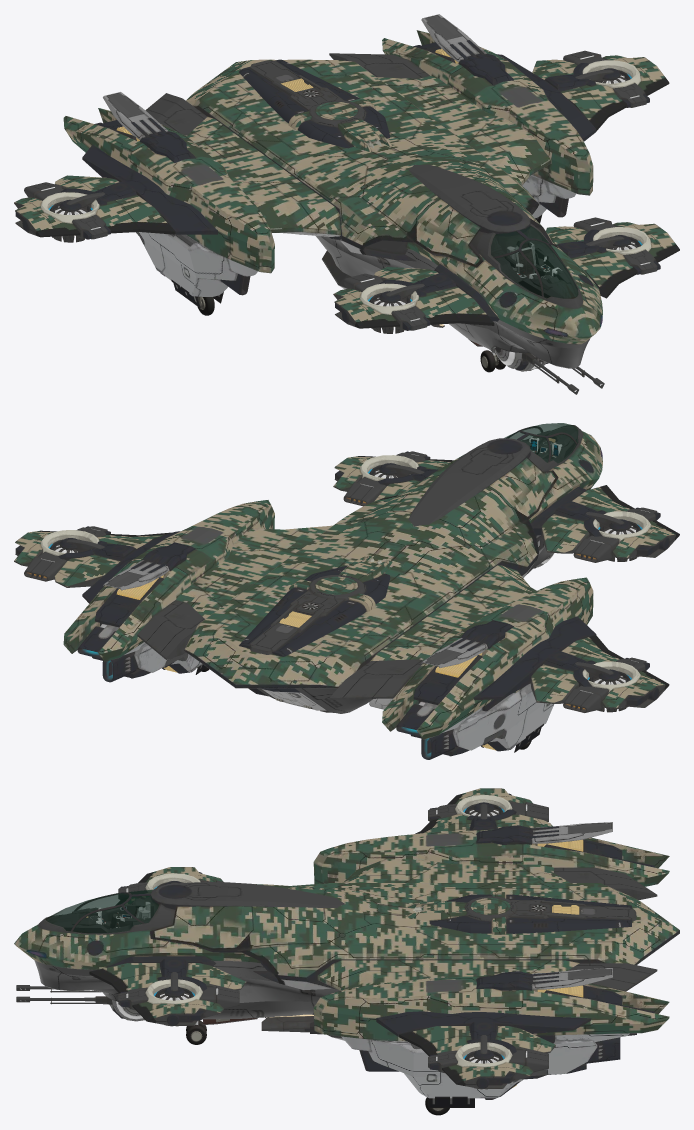
Rendered from vtol.glb.
3 views of the same model, one above another, from view 1: azimuth 30°, elevation 25°; view 2: azimuth 150°, elevation 25°; view 3: azimuth 270°, elevation 25° (orthographic). The views are drawn at different scales.
Parts seen in each view (by area): view 1: hull_top_Mat_hulltop_0, main_engine_Mat_engine_0, vertical_thrust_Mat_Vertical_thruster_0, tailgate_Mat_tailgate_0, hull_bottom_Mat_hullbottom_0, cockpit_canopy_Mat_canopy_0, cockpit_fixtures_Mat_cockpit_0, railgun_mat_weapons_0; view 2: hull_top_Mat_hulltop_0, main_engine_Mat_engine_0, vertical_thrust_Mat_Vertical_thruster_0, tailgate_Mat_tailgate_0, cockpit_canopy_Mat_canopy_0, hull_bottom_Mat_hullbottom_0, cockpit_fixtures_Mat_cockpit_0; view 3: hull_top_Mat_hulltop_0, main_engine_Mat_engine_0, vertical_thrust_Mat_Vertical_thruster_0, tailgate_Mat_tailgate_0, hull_bottom_Mat_hullbottom_0, cockpit_canopy_Mat_canopy_0, railgun_mat_weapons_0, cockpit_fixtures_Mat_cockpit_0.
Part boxes in pixels (bbox=[...]): hull_top_Mat_hulltop_0: bbox=[82, 53, 602, 344]; main_engine_Mat_engine_0: bbox=[63, 14, 593, 296]; vertical_thrust_Mat_Vertical_thruster_0: bbox=[14, 50, 679, 333]; tailgate_Mat_tailgate_0: bbox=[239, 59, 392, 151]; hull_bottom_Mat_hullbottom_0: bbox=[171, 214, 590, 372]; cockpit_canopy_Mat_canopy_0: bbox=[491, 225, 578, 298]; cockpit_fixtures_Mat_cockpit_0: bbox=[491, 227, 577, 298]; railgun_mat_weapons_0: bbox=[322, 250, 604, 394]; hull_top_Mat_hulltop_0: bbox=[82, 425, 602, 700]; main_engine_Mat_engine_0: bbox=[63, 500, 593, 759]; vertical_thrust_Mat_Vertical_thruster_0: bbox=[14, 451, 679, 712]; tailgate_Mat_tailgate_0: bbox=[239, 555, 392, 712]; cockpit_canopy_Mat_canopy_0: bbox=[504, 423, 578, 463]; hull_bottom_Mat_hullbottom_0: bbox=[195, 535, 551, 752]; cockpit_fixtures_Mat_cockpit_0: bbox=[521, 428, 577, 462]; hull_top_Mat_hulltop_0: bbox=[14, 858, 679, 1036]; main_engine_Mat_engine_0: bbox=[313, 822, 669, 1099]; vertical_thrust_Mat_Vertical_thruster_0: bbox=[89, 788, 555, 1089]; tailgate_Mat_tailgate_0: bbox=[407, 892, 636, 934]; hull_bottom_Mat_hullbottom_0: bbox=[34, 960, 474, 1115]; cockpit_canopy_Mat_canopy_0: bbox=[45, 889, 159, 933]; railgun_mat_weapons_0: bbox=[16, 985, 344, 1040]; cockpit_fixtures_Mat_cockpit_0: bbox=[49, 898, 153, 933].
Size of the model in its own units: 17.93 by 4.35 by 17.46.
Materials: 10 (10 with a texture image).
